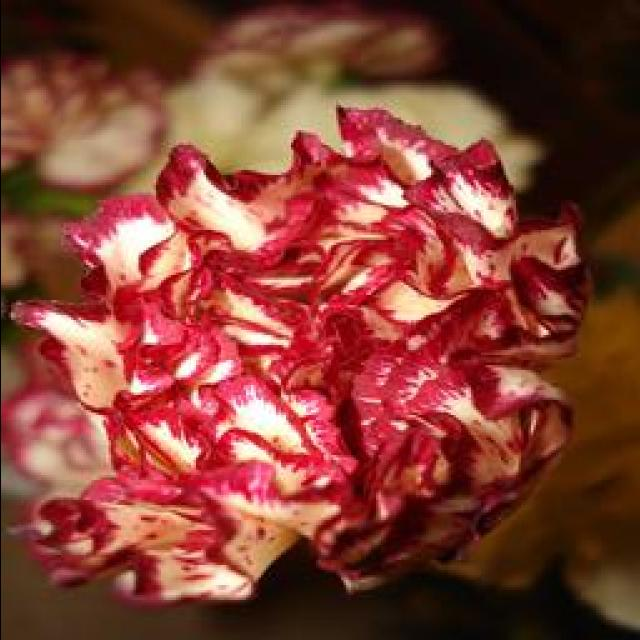carnation: (0, 110, 561, 582)
